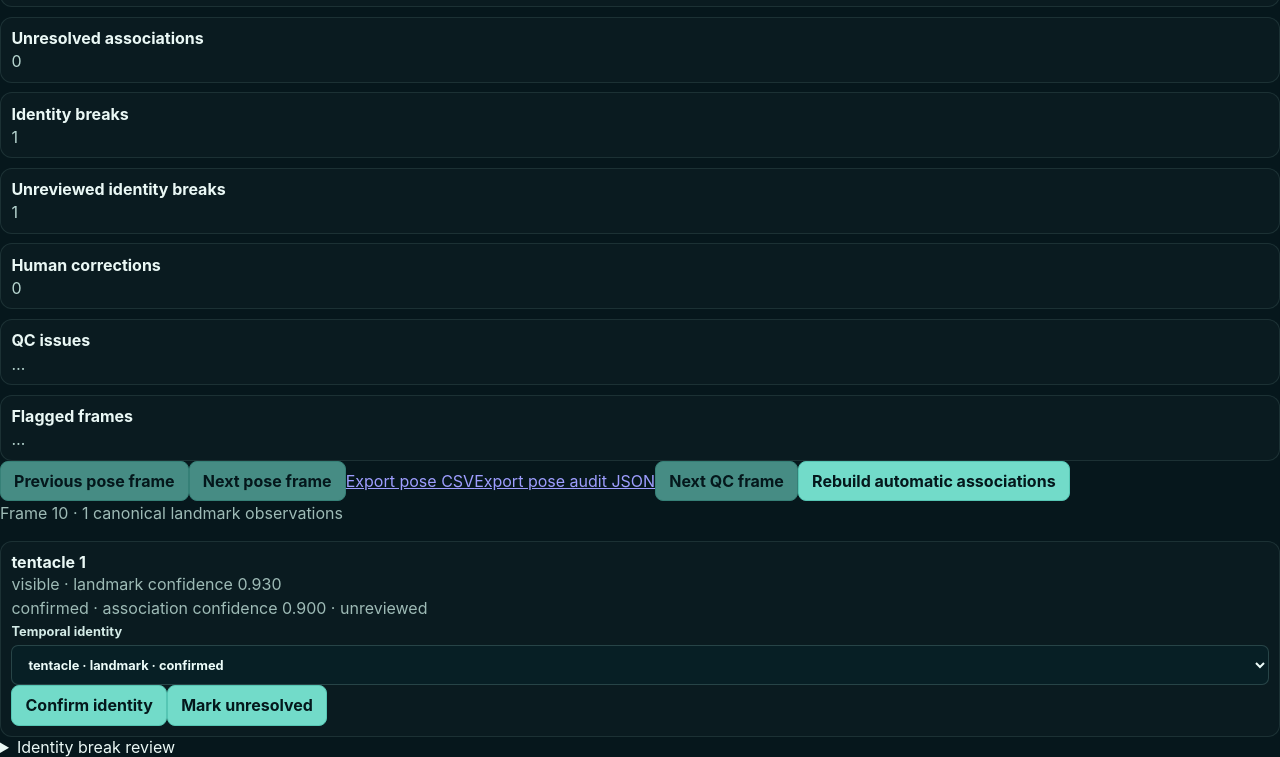
Test case: reviews tracker-created identity breaks without offering duplicate breaks
(page scrolled)
Click the heading "Identity break review".
click(96, 747)  # box 17,737 -> 175,756
(page scrolled)
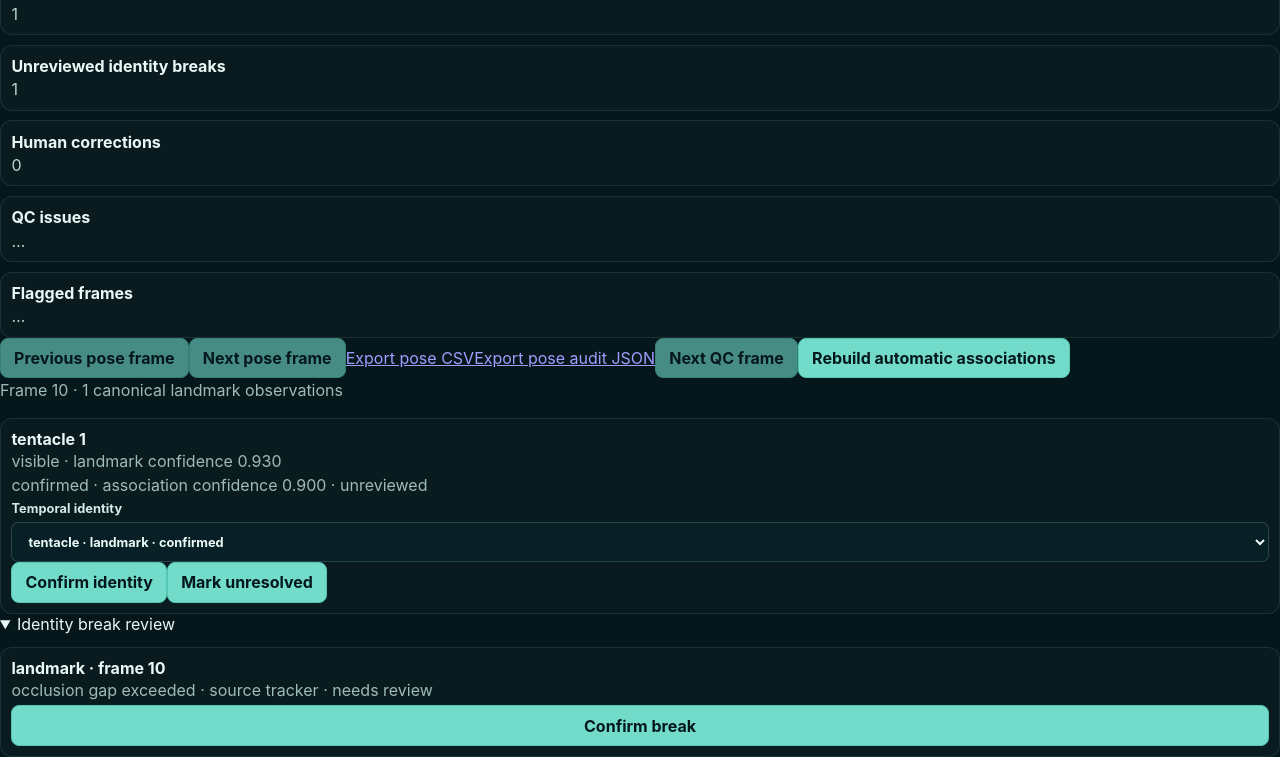
Result: the text "occlusion gap exceeded · source tracker · needs review" is shown at 11,680 -> 433,700
Click the button "Confirm break".
click(640, 726)  # box 11,705 -> 1269,746
(page scrolled)
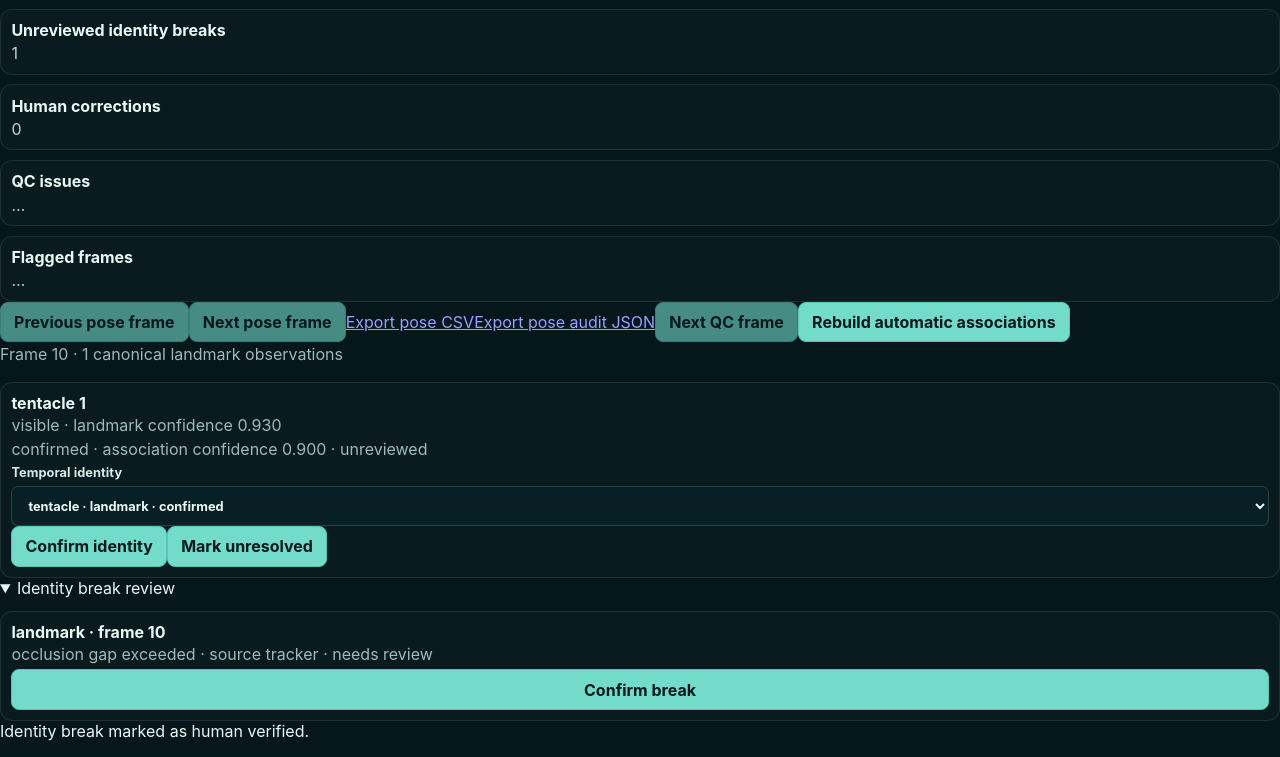
Result: the text "Identity break marked as human verified." is shown at 0,721 -> 309,741
